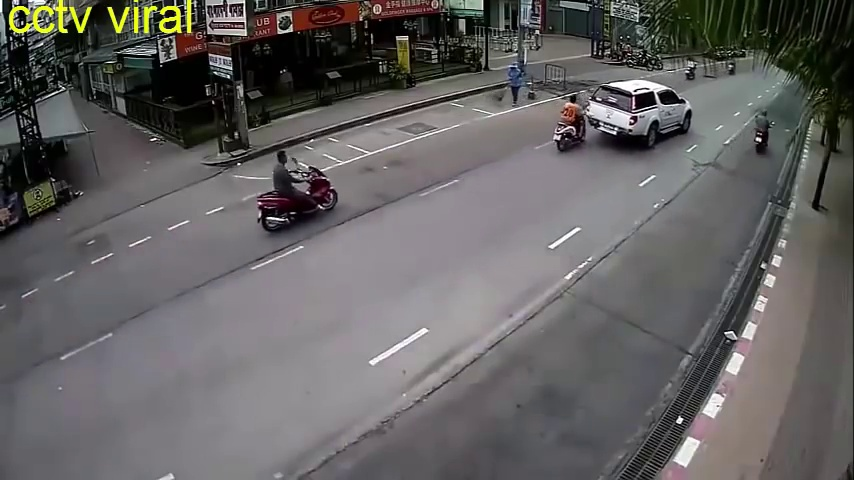car: (591, 78, 690, 152)
motorbike: (255, 149, 336, 239), (554, 96, 587, 154), (751, 108, 771, 154)
